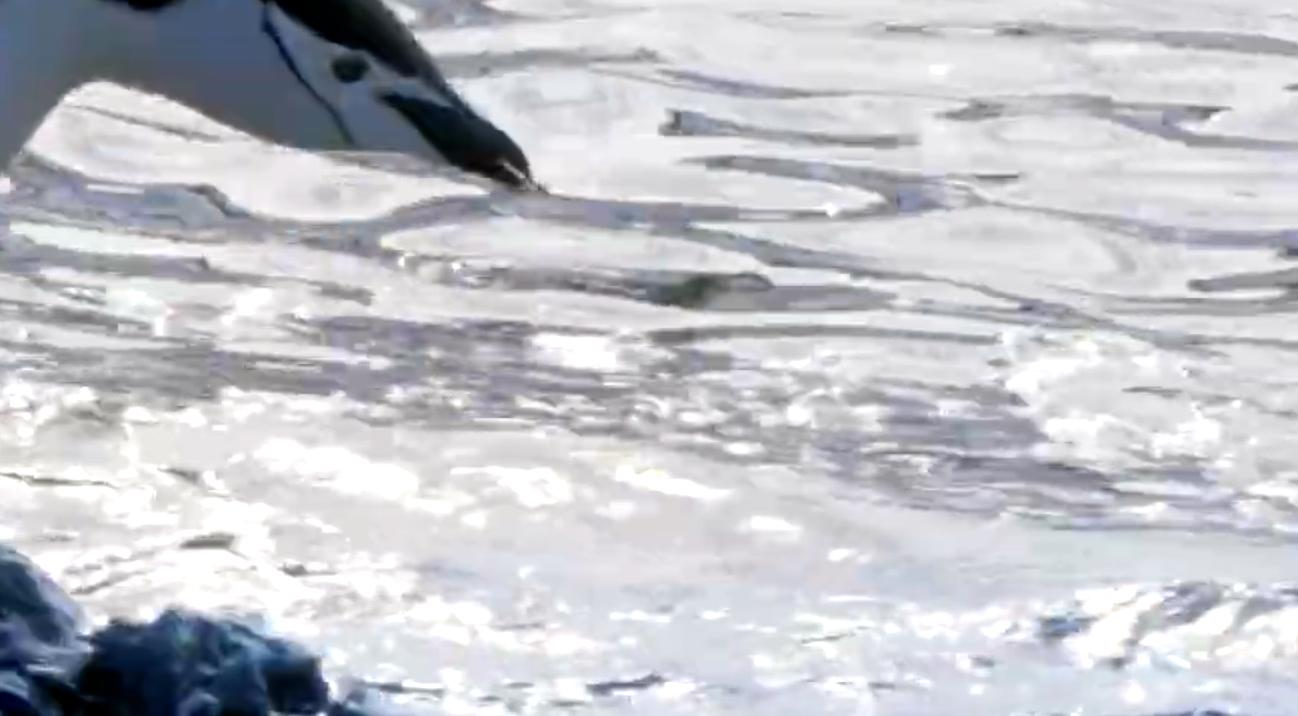Chinstrap Penguin: (0, 0, 556, 564)
